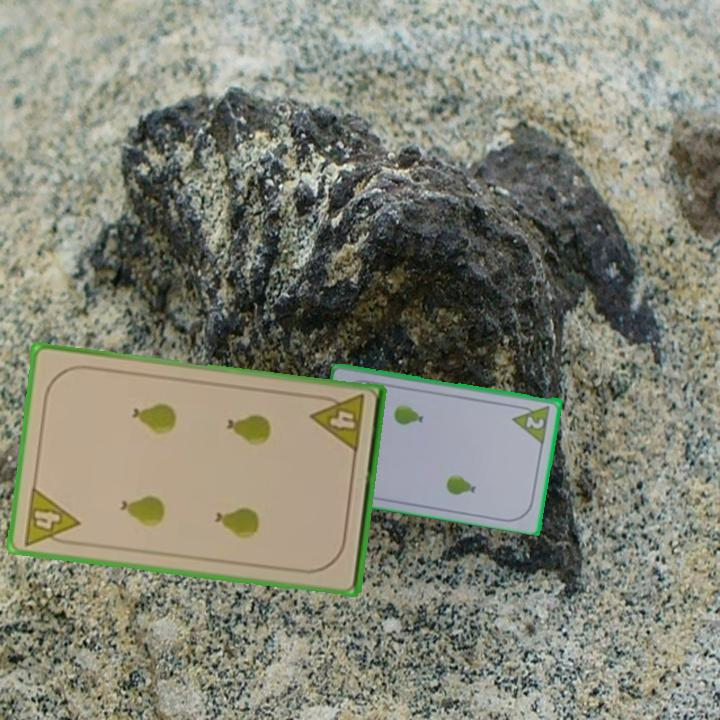2p: (523, 412, 547, 432)
4p: (19, 483, 82, 549), (308, 391, 368, 456)
